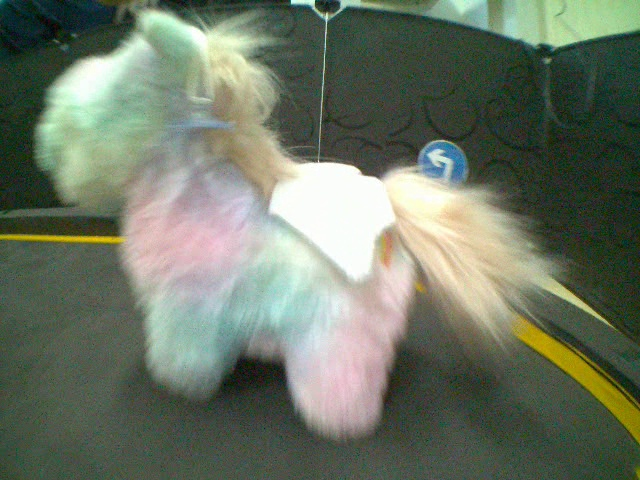unicorn: (31, 4, 571, 447)
